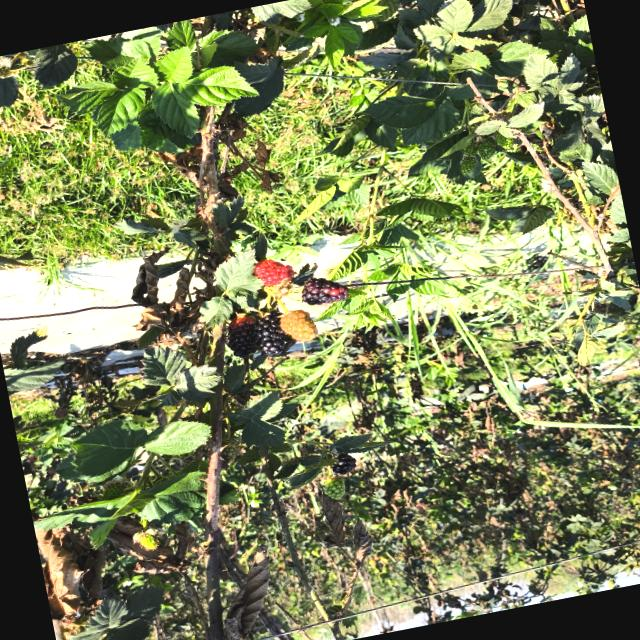maduro: (256, 312, 287, 356)
marron: (227, 316, 259, 358), (302, 278, 349, 305)
naranja: (280, 310, 317, 341), (254, 259, 295, 286)
